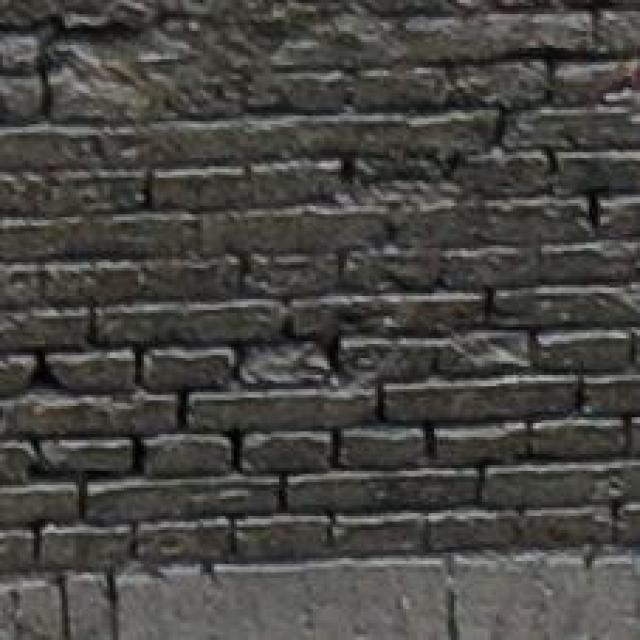Crack: (6, 250, 640, 476)
